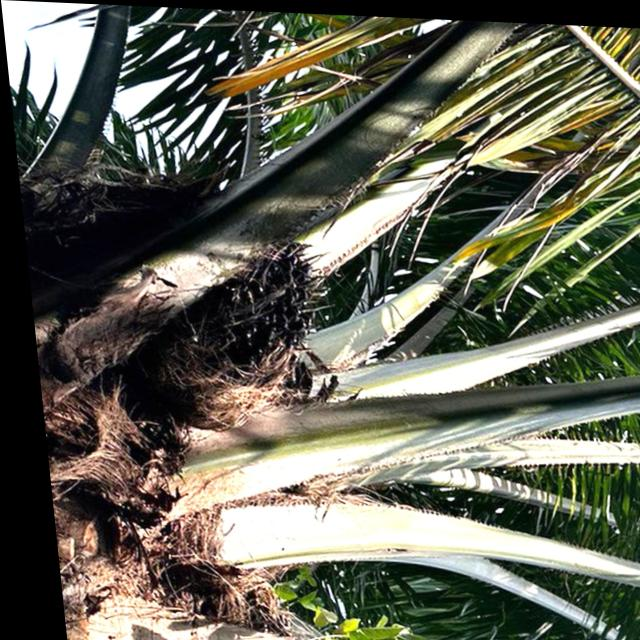almost: (141, 232, 341, 438)
